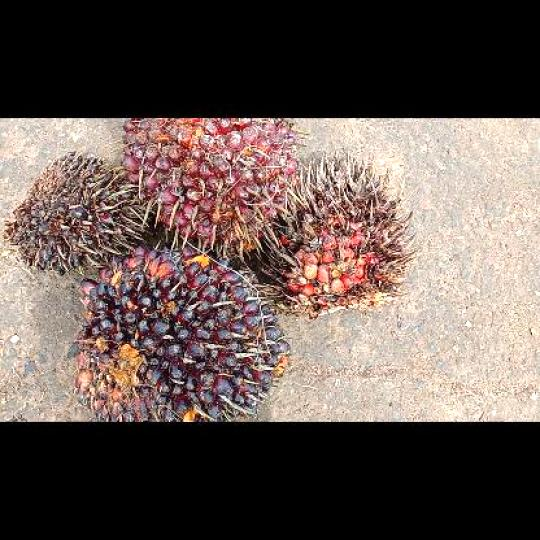kurang masak: (68, 241, 295, 420)
masak: (116, 117, 302, 259)
terlalu masak: (255, 151, 417, 319)
